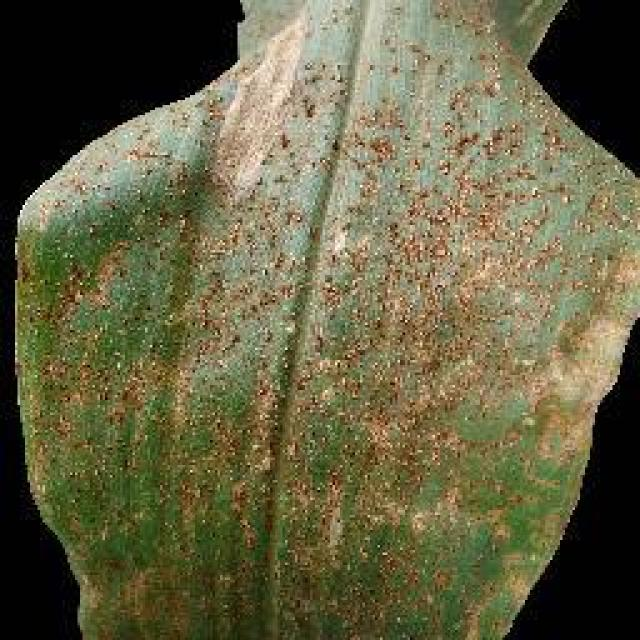Corn Common Rust: (92, 107, 639, 640)
